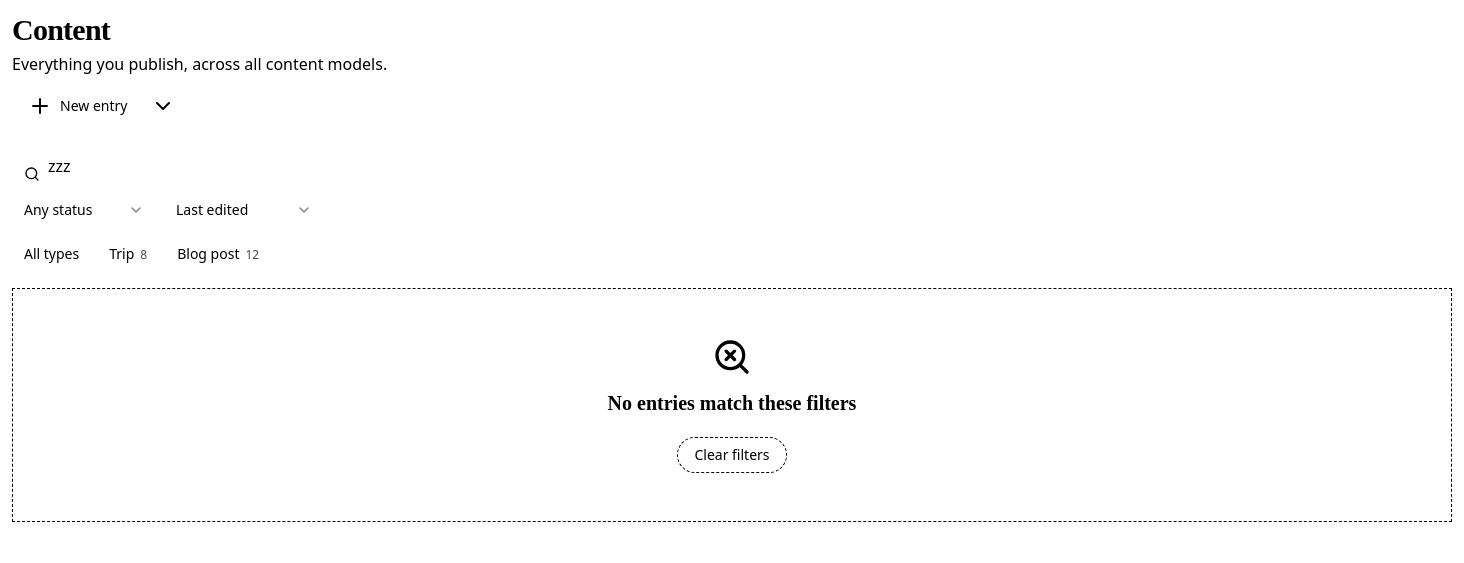
Scenario: ContentListPage › clears the search box together with the filters
The width and height of the screenshot is (1464, 563).
What coordinates should you click on to do the following:
click the button "Clear filters"
I would click on:
 (732, 455)
Its box is [677,437,786,473].
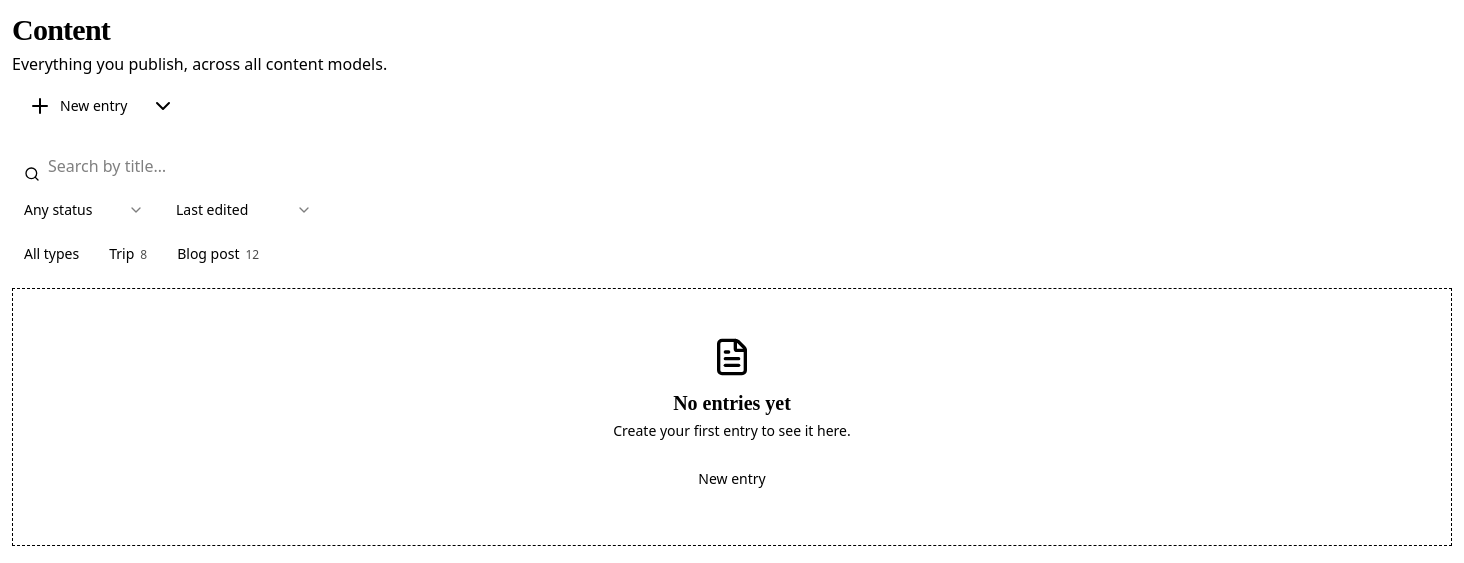
Expected: the search field named "Search entries" is empty, [12,148,1452,184]
